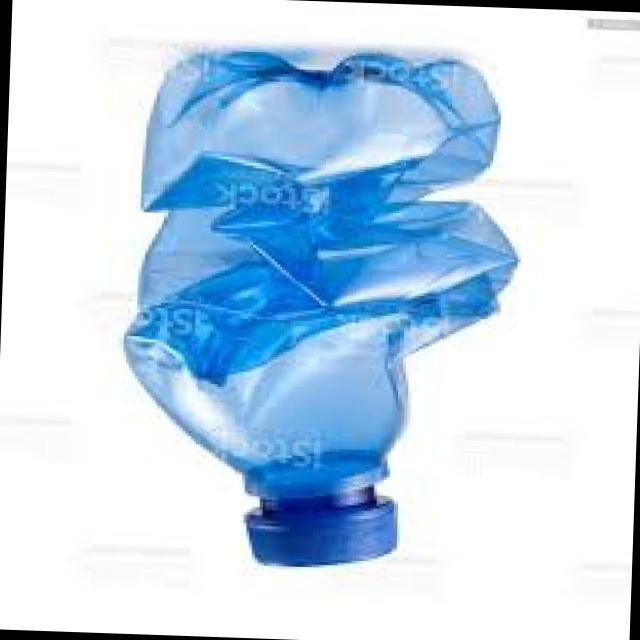defected: (111, 42, 526, 594)
